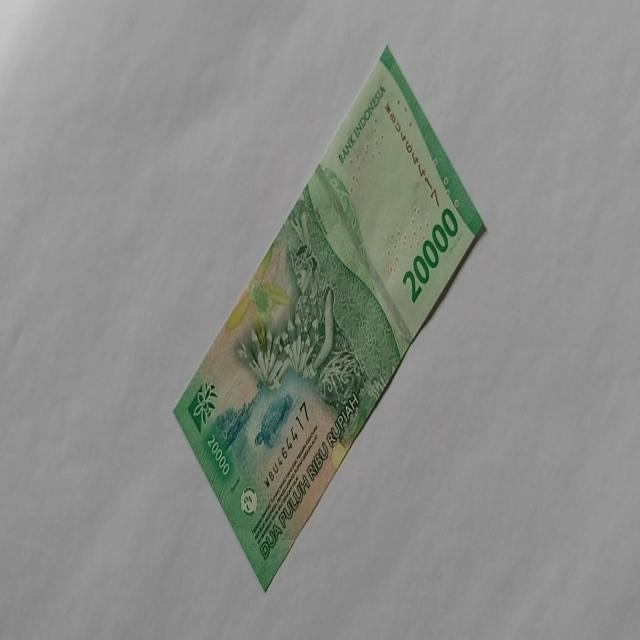dua puluh ribu rupiah: (172, 42, 486, 592)
